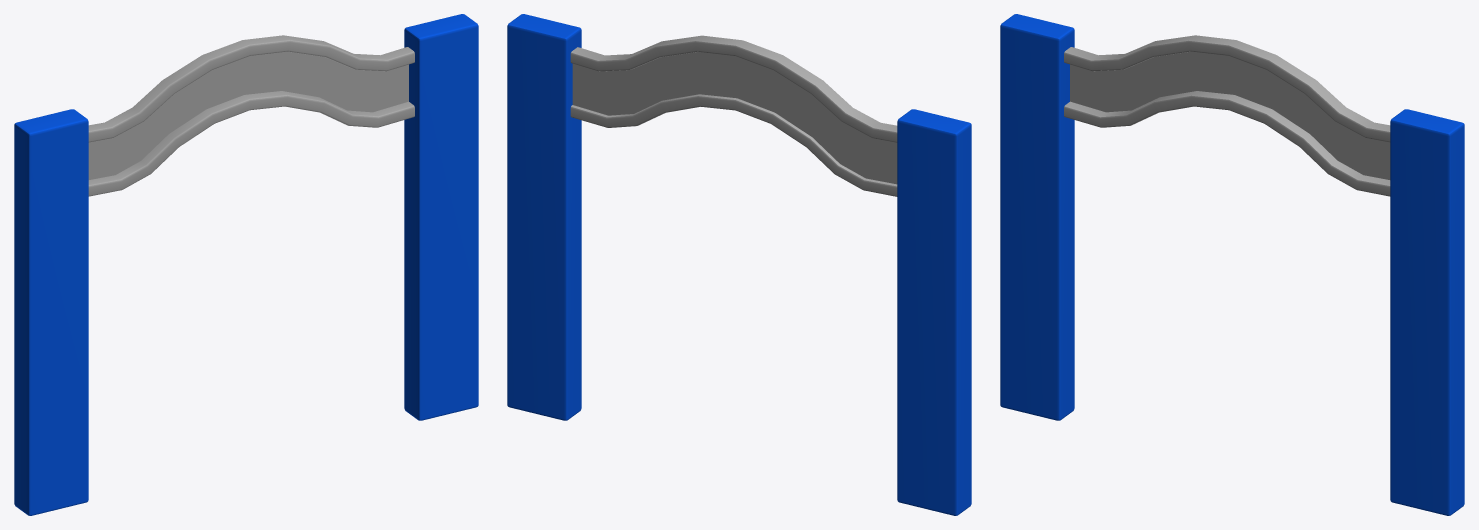
The model's file is FrontGate.fbx.
3 views of the same model, side by side, from view 1: azimuth 30°, elevation 25°; view 2: azimuth 150°, elevation 25°; view 3: azimuth 330°, elevation 25° (orthographic).
Parts seen in each view (by area): view 1: Pilar3, Pilar2, Sign; view 2: Pilar3, Pilar2, Sign; view 3: Pilar2, Pilar3, Sign.
Part boxes in pixels (x1,y1,x2,y2): Pilar3: (14, 109, 88, 515); Pilar2: (404, 14, 478, 420); Sign: (88, 35, 414, 196); Pilar3: (897, 109, 971, 515); Pilar2: (507, 14, 581, 420); Sign: (570, 35, 897, 196); Pilar2: (1390, 109, 1464, 515); Pilar3: (1000, 14, 1074, 420); Sign: (1064, 35, 1390, 196).
Size of the model in its own units: 7.41 by 6.51 by 0.4608.
